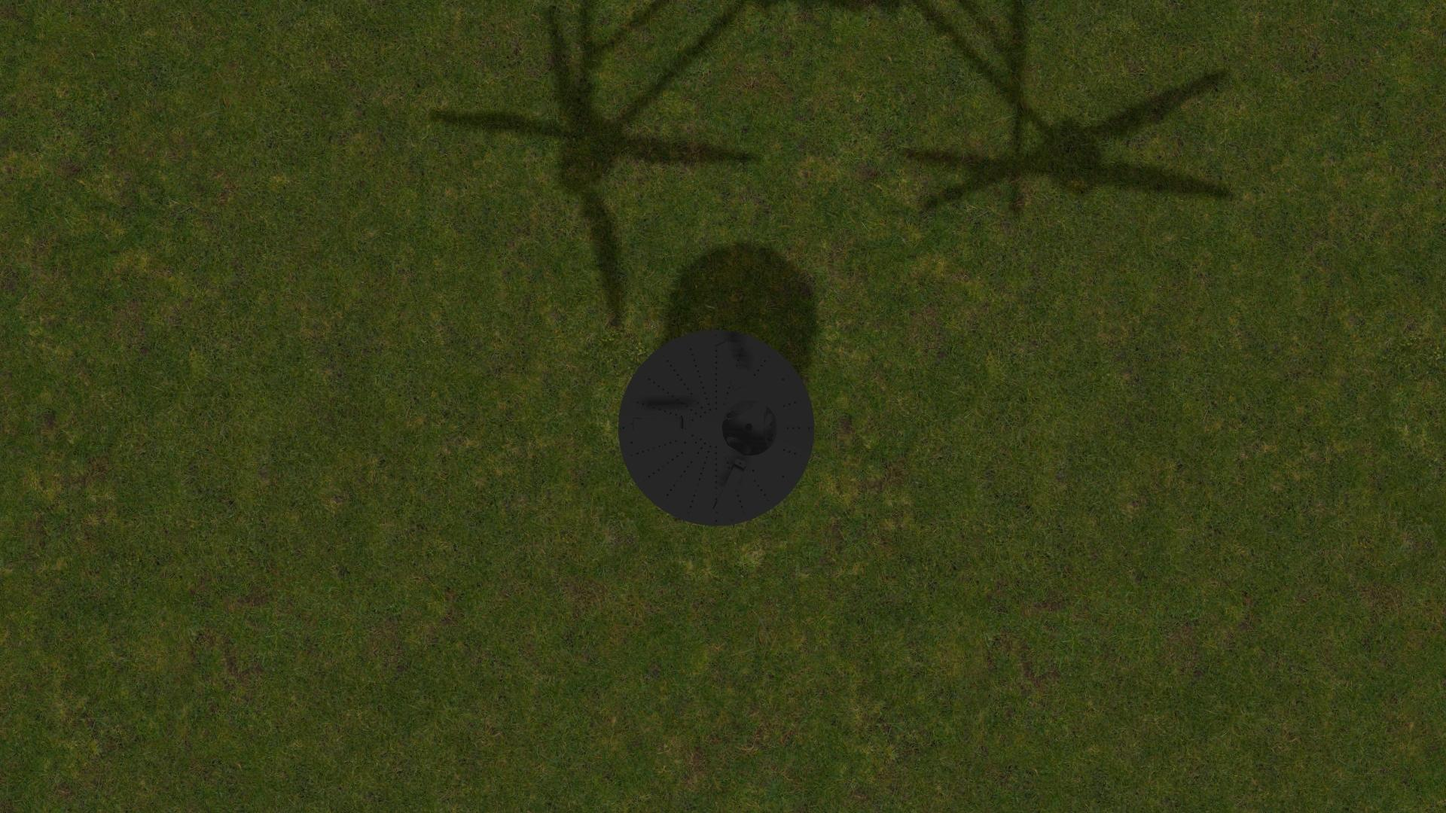alca: (711, 457, 747, 516), (712, 337, 747, 396), (628, 417, 690, 431)
armadilha: (618, 329, 814, 526)
